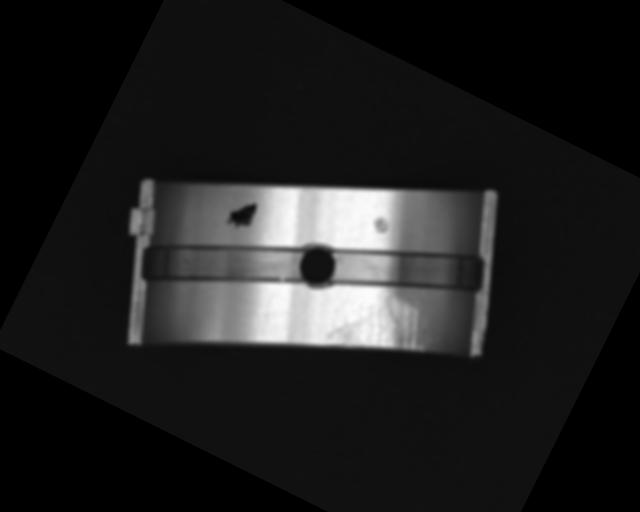blot: (223, 195, 261, 236)
bruise: (369, 214, 392, 238)
gap: (134, 188, 317, 341), (322, 199, 495, 344)
hole: (286, 234, 346, 297)
nick: (249, 296, 281, 339)
scratch: (321, 274, 442, 386)
